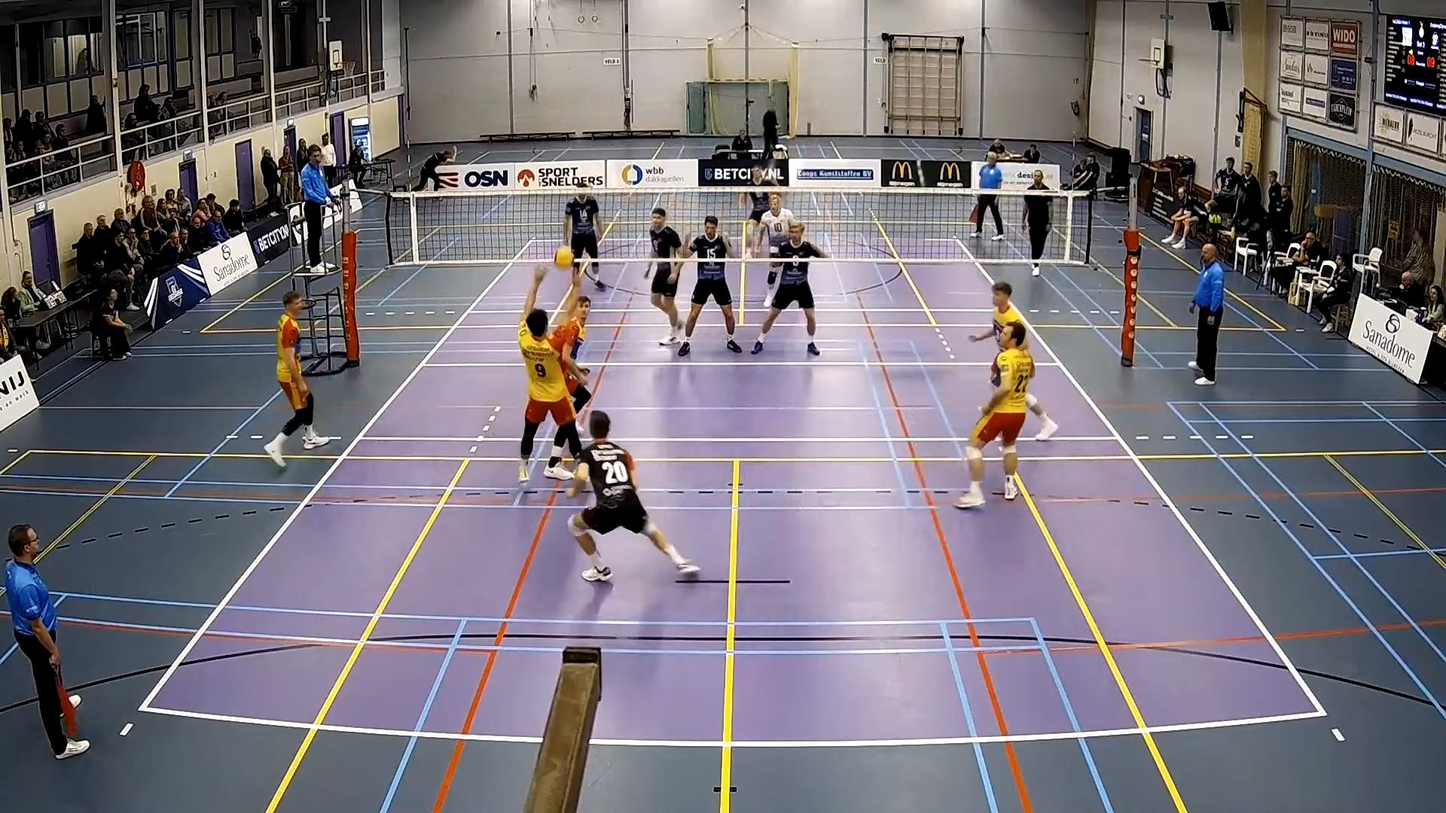Player: (568, 410, 698, 581), (954, 321, 1034, 508), (264, 291, 330, 467), (752, 223, 828, 355), (678, 215, 741, 356), (649, 208, 682, 345), (755, 192, 795, 303), (563, 179, 602, 287), (549, 265, 590, 362), (969, 281, 1023, 350), (740, 166, 777, 227)
Receive: (515, 264, 588, 486)
ball: (555, 248, 573, 264)
